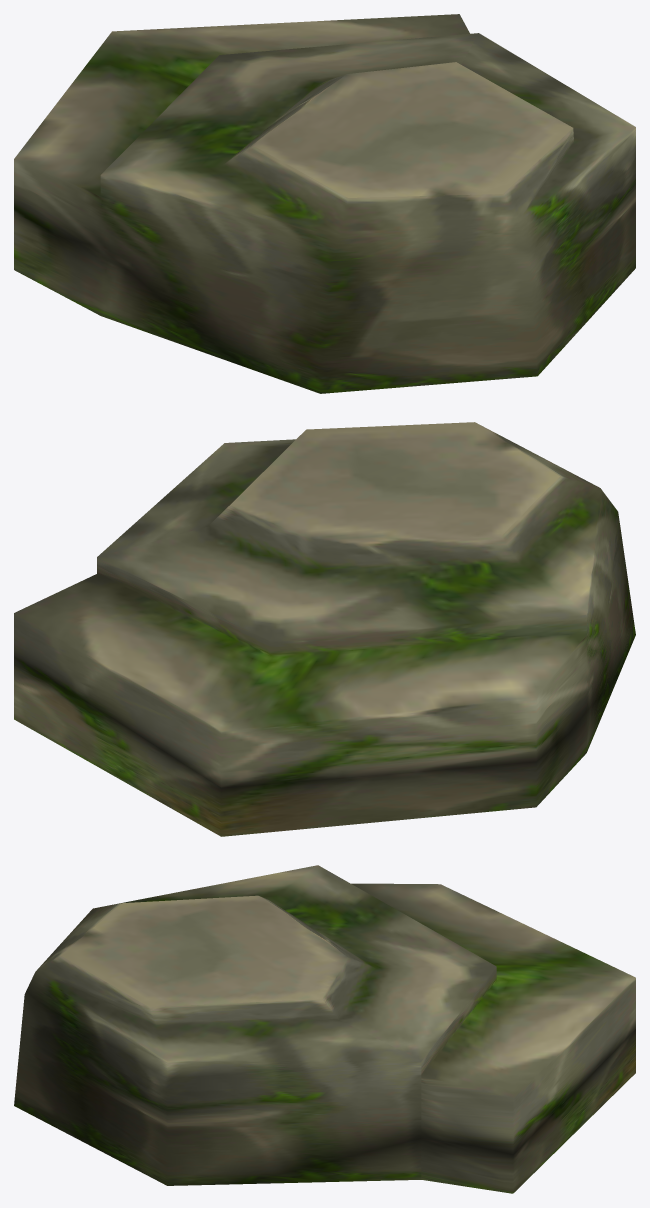
Rendered from RockFormation_4_5 (37).fbx.
3 renders of one model, top to bottom at view 1: azimuth 30°, elevation 25°; view 2: azimuth 150°, elevation 25°; view 3: azimuth 270°, elevation 25°, orthographic. The views are drawn at different scales.
Parts seen in each view (by area): view 1: RockFormation_4_5 (37); view 2: RockFormation_4_5 (37); view 3: RockFormation_4_5 (37).
Part boxes in pixels (x1,y1,x2,y2): RockFormation_4_5 (37): (14,14,635,393); RockFormation_4_5 (37): (14,422,635,836); RockFormation_4_5 (37): (14,865,635,1193).
Bounding box in the file's own units: 50.05 × 16.25 × 62.34.
